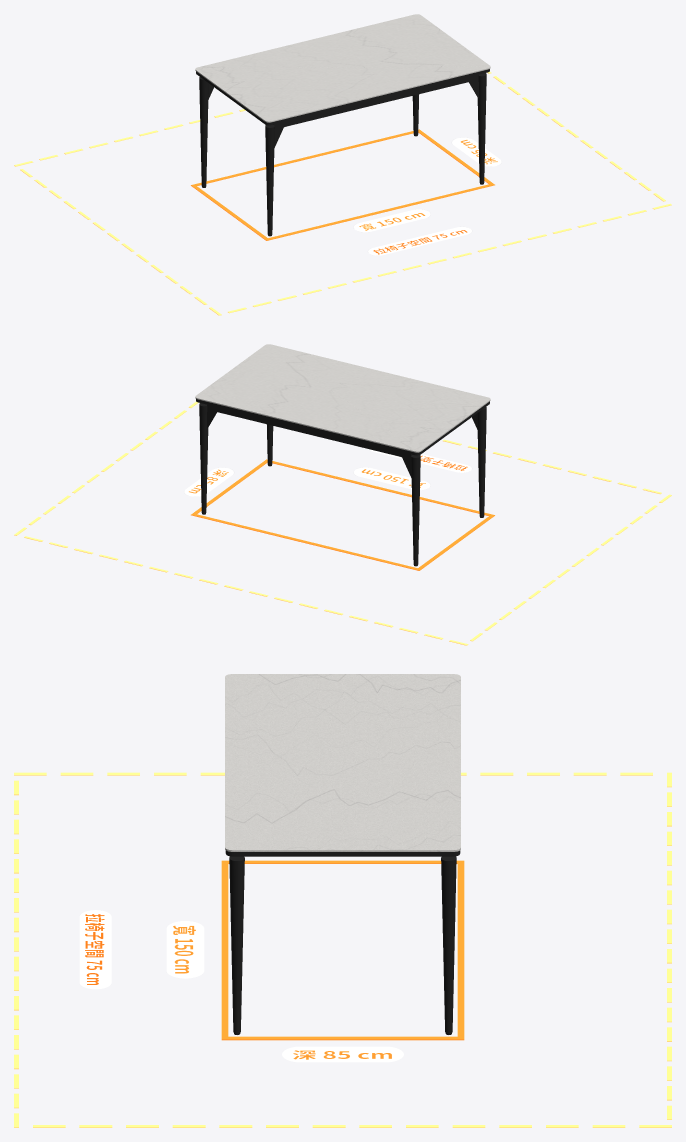
Rendered from ownPencil-f.glb.
3 views of the same model, one above another, from view 1: azimuth 30°, elevation 25°; view 2: azimuth 150°, elevation 25°; view 3: azimuth 270°, elevation 25° (orthographic). The views are drawn at different scales.
Parts seen in each view (by area): view 1: object 1, ar-frame, object 5, object 2, object 10, object 7, object 15; view 2: object 1, ar-frame, object 3, object 2, object 7, object 10, object 13; view 3: object 1, ar-frame, object 13, object 15, object 2.
Boxes of the visible parts, left/top/right/bottom form: object 1: left=195, top=14, right=490, bottom=122; ar-frame: left=14, top=71, right=671, bottom=315; object 5: left=285, top=77, right=467, bottom=126; object 2: left=196, top=69, right=489, bottom=125; object 10: left=265, top=125, right=274, bottom=235; object 7: left=199, top=77, right=208, bottom=186; object 15: left=477, top=73, right=486, bottom=183; object 1: left=195, top=344, right=490, bottom=452; ar-frame: left=14, top=401, right=671, bottom=645; object 3: left=218, top=407, right=400, bottom=456; object 2: left=196, top=399, right=489, bottom=455; object 7: left=411, top=455, right=420, bottom=565; object 10: left=477, top=407, right=486, bottom=516; object 13: left=199, top=403, right=208, bottom=513; object 1: left=225, top=674, right=460, bottom=851; ar-frame: left=14, top=772, right=671, bottom=1127; object 13: left=441, top=856, right=456, bottom=1033; object 15: left=229, top=856, right=244, bottom=1033; object 2: left=225, top=850, right=460, bottom=856.
Bounding box in the file's own units: 3.02 × 0.75 × 2.37.
8 materials, 4 textured.
